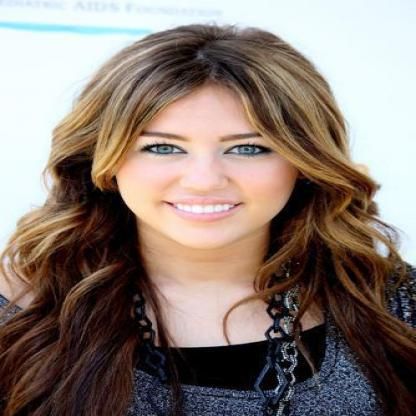long-hair: (2, 249, 361, 394)
